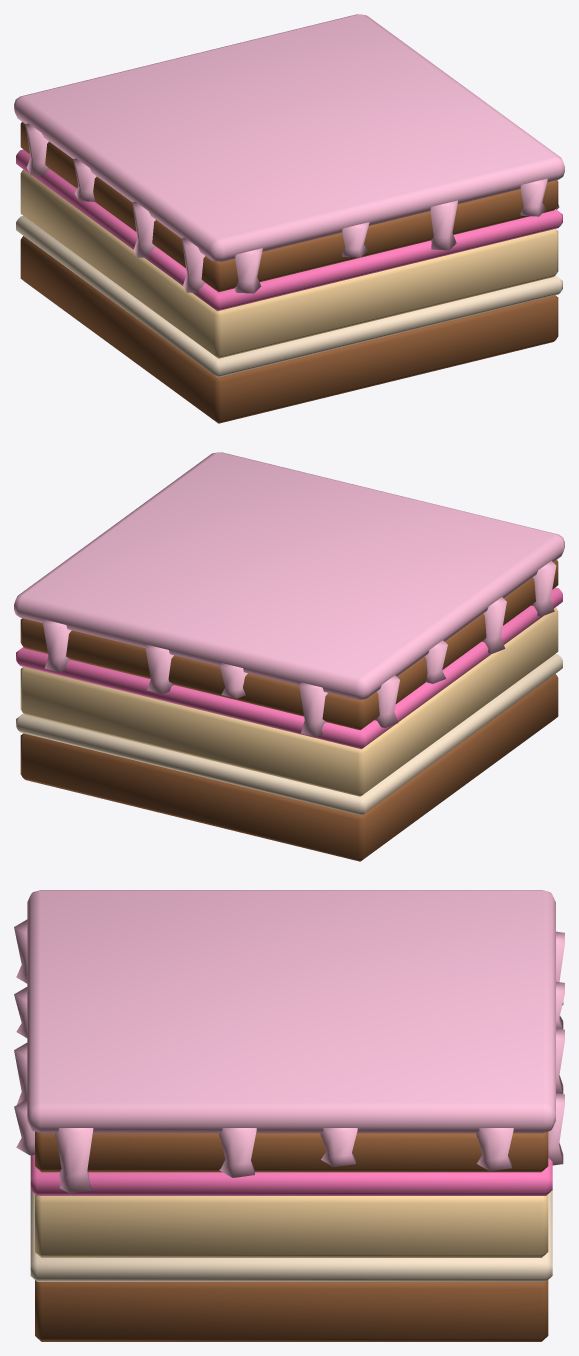
File: candy_block.glb
The picture shows the model from 3 angles, top to bottom: view 1: azimuth 30°, elevation 25°; view 2: azimuth 150°, elevation 25°; view 3: azimuth 270°, elevation 25°; orthographic projection. The views are drawn at different scales.
Parts seen in each view (by area): view 1: C_Block__C_ice_2, C_Block__C_choc_8, C_Block__C_van_8, C_Block__C_cream_5, C_Block__C_pink_2; view 2: C_Block__C_ice_2, C_Block__C_choc_8, C_Block__C_van_8, C_Block__C_cream_5, C_Block__C_pink_2; view 3: C_Block__C_ice_2, C_Block__C_choc_8, C_Block__C_van_8, C_Block__C_cream_5, C_Block__C_pink_2.
Part boxes in pixels (x1=…): C_Block__C_ice_2: x1=14, y1=14, x2=564, y2=293; C_Block__C_choc_8: x1=20, y1=122, x2=558, y2=423; C_Block__C_van_8: x1=20, y1=169, x2=558, y2=358; C_Block__C_cream_5: x1=16, y1=216, x2=562, y2=377; C_Block__C_pink_2: x1=16, y1=149, x2=562, y2=311; C_Block__C_ice_2: x1=14, y1=452, x2=564, y2=736; C_Block__C_choc_8: x1=20, y1=560, x2=558, y2=861; C_Block__C_van_8: x1=20, y1=607, x2=558, y2=796; C_Block__C_cream_5: x1=16, y1=654, x2=562, y2=815; C_Block__C_pink_2: x1=16, y1=587, x2=562, y2=749; C_Block__C_ice_2: x1=14, y1=890, x2=564, y2=1193; C_Block__C_choc_8: x1=35, y1=1131, x2=548, y2=1341; C_Block__C_van_8: x1=35, y1=1194, x2=548, y2=1257; C_Block__C_cream_5: x1=30, y1=1190, x2=552, y2=1281; C_Block__C_pink_2: x1=30, y1=1155, x2=552, y2=1195.
Size of the model in its own units: 5.02 by 2.4 by 5.
